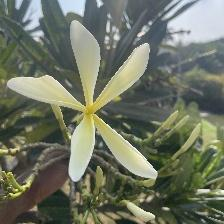champaka: (7, 16, 163, 186)
